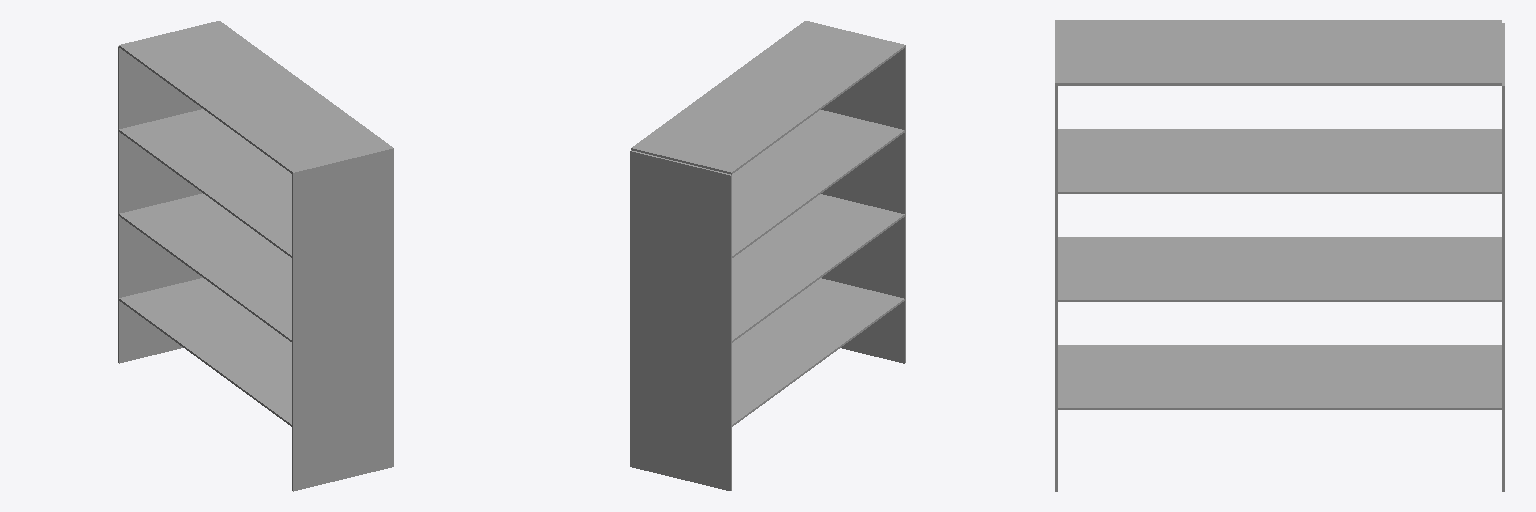
robot.urdf — table:
<robot name="table">
  <link name="table_base_link">
    <contact>
      <lateral_friction value="0.5"/>
      <rolling_friction value="0.0"/>
      <contact_cfm value="0.0"/>
      <contact_erp value="1.0"/>
    </contact>
    <inertial>
      <origin rpy="0 0 0" xyz="0 0 0"/>
      <mass value="0"/>
      <inertia ixx="0" ixy="0" ixz="0" iyy="0" iyz="0" izz="0"/>
    </inertial>
    <visual>
      <origin rpy="0 0 0" xyz="0 0 0"/>
      <geometry>
        <mesh filename="shelf.obj" />
      </geometry>
      <material name="metal_material">
        <color rgba="0.7 0.7 0.7 1"/>
      </material>
    </visual>
    <collision>
      <origin rpy="0 0 0" xyz="0 0 0"/>
      <geometry>
        <mesh filename="narrow_tunnel.obj" />
      </geometry>
    </collision>
  </link>
</robot>

--- Facts derived from the render (not from the file) ---
Views: 3 orthographic renders of the robot side by side, from view 1: azimuth 30°, elevation 25°; view 2: azimuth 150°, elevation 25°; view 3: azimuth 270°, elevation 25°.
Robot: table — 1 links, 0 joints (none); root link table_base_link; default pose: all joints at 0.
Visible links, largest first — view 1: table_base_link; view 2: table_base_link; view 3: table_base_link.
Link boxes in pixels (bbox=[...]): table_base_link: bbox=[118, 21, 393, 491]; table_base_link: bbox=[630, 21, 905, 490]; table_base_link: bbox=[1055, 20, 1504, 491].
Size in the robot's own frame: 500 by 1510 by 1510 metres.
1 mesh visuals loaded from 1 distinct referenced files (1 OBJ).